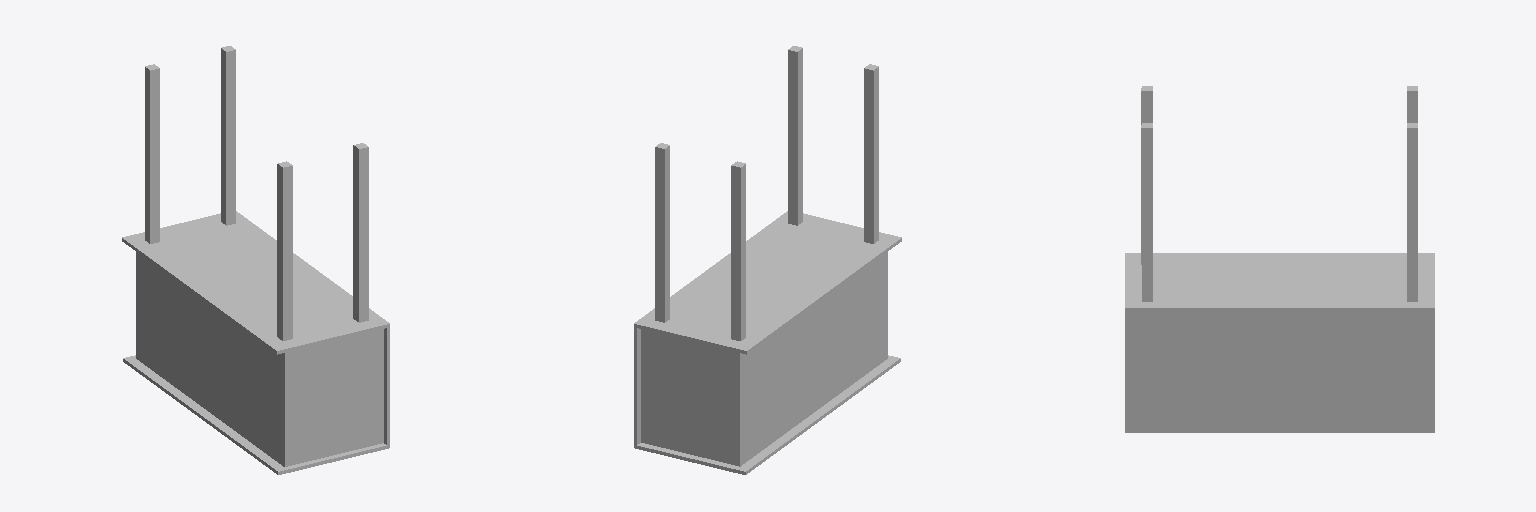
The model's file is modelo puesto de aguas.obj.
3 renders of one model, left to right at view 1: azimuth 30°, elevation 25°; view 2: azimuth 150°, elevation 25°; view 3: azimuth 270°, elevation 25°, orthographic.
Visible parts, largest first — view 1: Line001, Box006, Box005, Box007, Box008; view 2: Line001, Box005, Box006, Box008, Box007; view 3: Line001, Box006, Box007.
Boxes of the visible parts, <box> form: Line001: <box>122,211,389,474</box>; Box006: <box>353,143,368,322</box>; Box005: <box>277,161,292,340</box>; Box007: <box>221,46,235,225</box>; Box008: <box>145,64,159,243</box>; Line001: <box>634,211,901,474</box>; Box005: <box>864,64,878,243</box>; Box006: <box>788,46,802,225</box>; Box008: <box>731,161,745,340</box>; Box007: <box>655,143,669,322</box>; Line001: <box>1125,253,1434,432</box>; Box006: <box>1141,123,1152,301</box>; Box007: <box>1407,123,1417,301</box>.
Size of the model in its own units: 206 by 518 by 488.